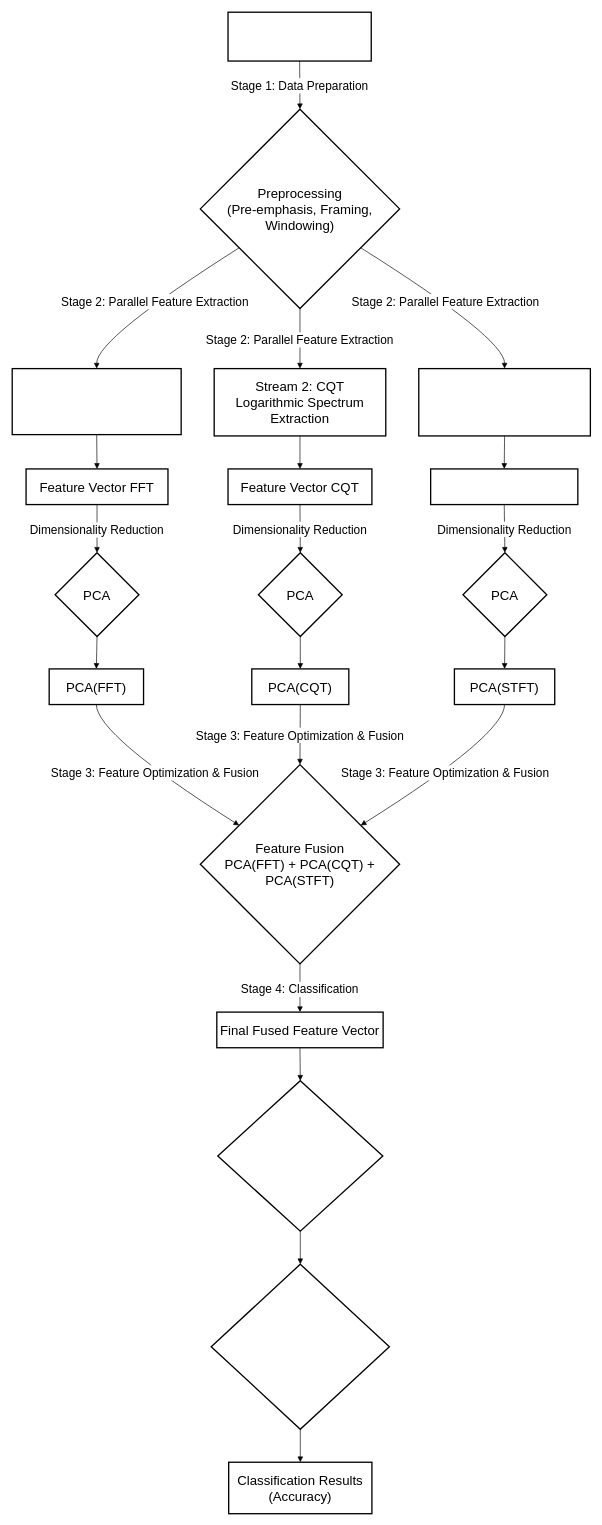
Some shapes in this 602 by 1525 pixel diagram are drawn without their labels. The shapes that lost their labels are listed below. From the top down, each one's centre as x and y in pixels, then its label:
At point 299,36: "Raw Audio Signal".
At point 96,401: "Stream 1: Enhanced FFT Linear Spectrum Extraction".
At point 504,402: "Stream 3: STFT Time-Frequency Spectrum Extraction".
At point 504,486: "Feature Vector STFT".
At point 300,1156: "Data Standardization (StandardScaler)".
At point 300,1346: "Train & Evaluate Models (KNN, SVM, RF, ET)".
